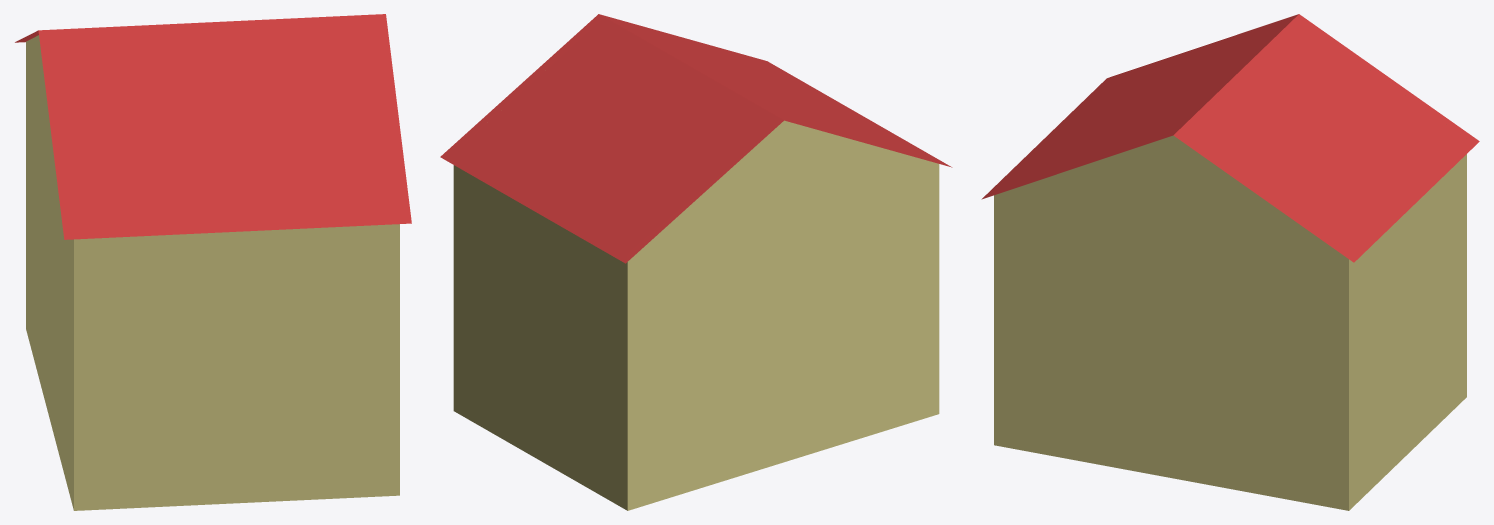
The picture shows the model from 3 angles, left to right: view 1: azimuth 30°, elevation 25°; view 2: azimuth 150°, elevation 25°; view 3: azimuth 270°, elevation 25°; orthographic projection. The views are drawn at different scales.
Size of the model in its own units: 11.54 by 12.77 by 9.82.
